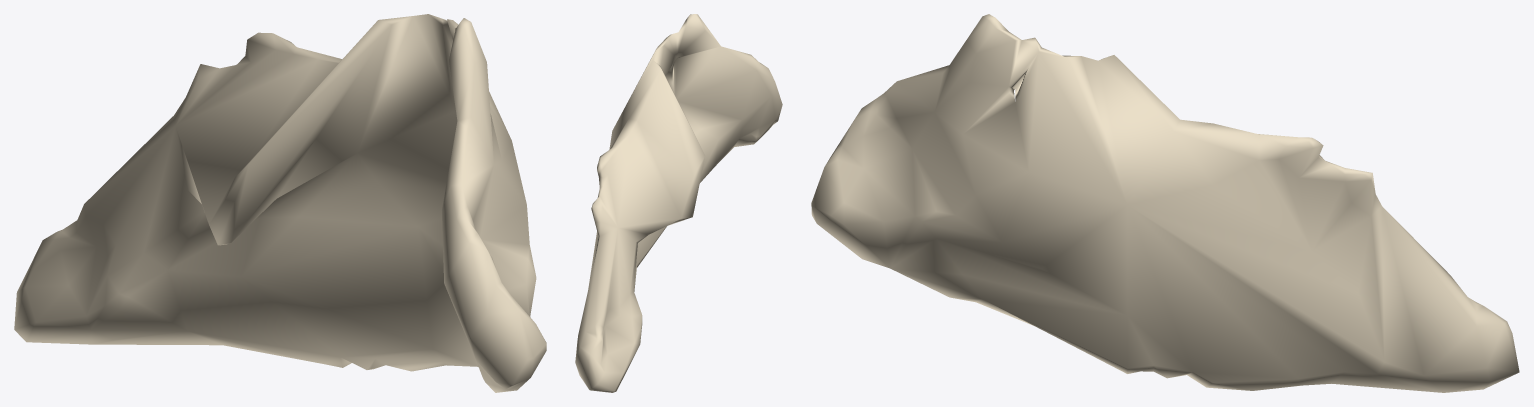
Rendered from inferior-nasal-concha-bone-r.glb.
3 views of the same model, side by side, from view 1: azimuth 30°, elevation 25°; view 2: azimuth 150°, elevation 25°; view 3: azimuth 270°, elevation 25° (orthographic). The views are drawn at different scales.
Visible parts, largest first — view 1: Inferior nasal concha bone.r; view 2: Inferior nasal concha bone.r; view 3: Inferior nasal concha bone.r.
Boxes of the visible parts, box(x1,y1,x2,y2) form: Inferior nasal concha bone.r: box(14, 14, 546, 392); Inferior nasal concha bone.r: box(575, 14, 782, 392); Inferior nasal concha bone.r: box(811, 14, 1519, 392).
Bounding box in the file's own units: 0.0105 × 0.0225 × 0.0346.
